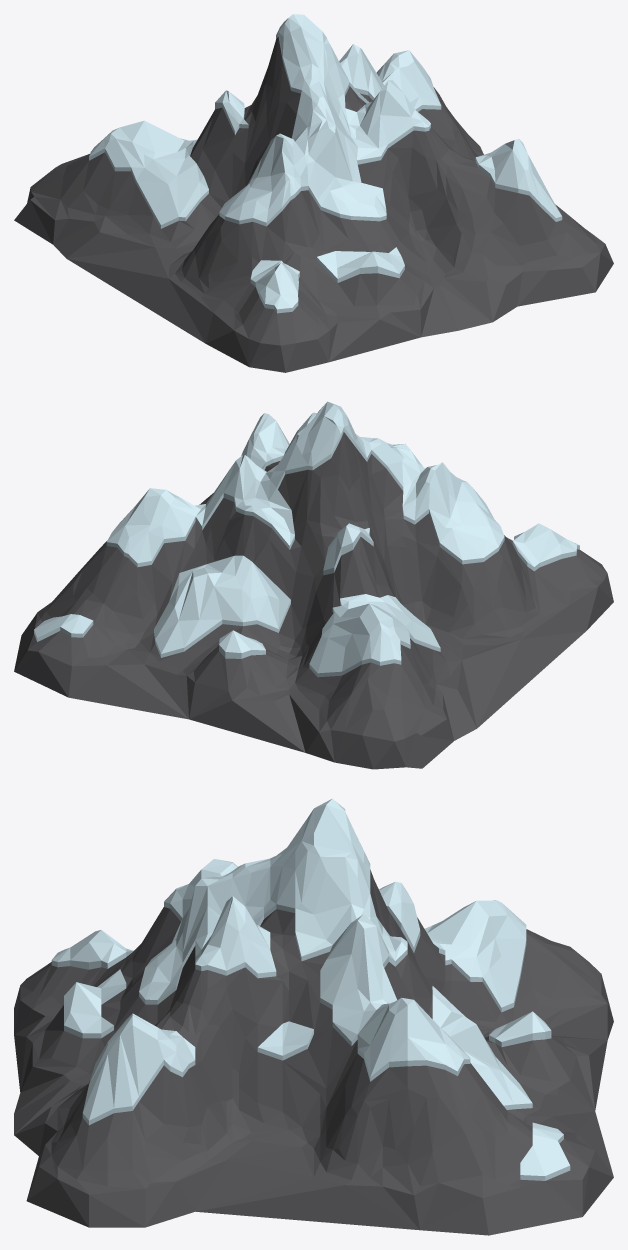
File: SM_Env_MountainSnow_02.gltf
The picture shows the model from 3 angles, top to bottom: view 1: azimuth 30°, elevation 25°; view 2: azimuth 150°, elevation 25°; view 3: azimuth 270°, elevation 25°; orthographic projection. The views are drawn at different scales.
Visible parts, largest first — view 1: SM_Env_MountainSnow_02; view 2: SM_Env_MountainSnow_02; view 3: SM_Env_MountainSnow_02.
Part boxes in pixels (bbox=[...]): SM_Env_MountainSnow_02: bbox=[14, 14, 613, 372]; SM_Env_MountainSnow_02: bbox=[14, 401, 613, 769]; SM_Env_MountainSnow_02: bbox=[14, 798, 613, 1235].
Size of the model in its own units: 39.23 by 20.87 by 38.82.
Materials: 1 (1 with a texture image).
